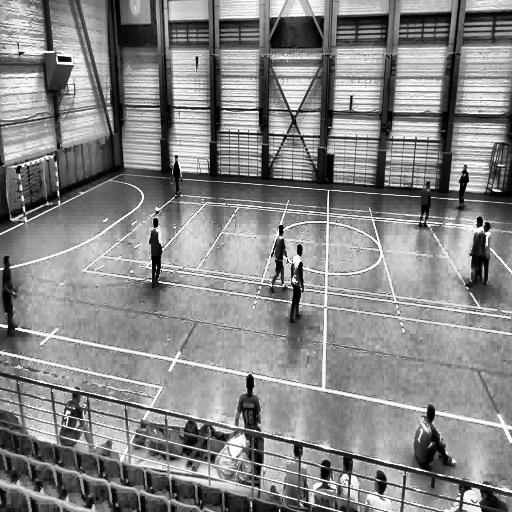ball: (154, 204, 161, 215)
player: (268, 224, 290, 294), (1, 257, 18, 335), (289, 244, 305, 322), (466, 217, 484, 285), (149, 215, 163, 290), (479, 220, 492, 290), (417, 181, 430, 227), (457, 166, 469, 208), (172, 155, 182, 197)
